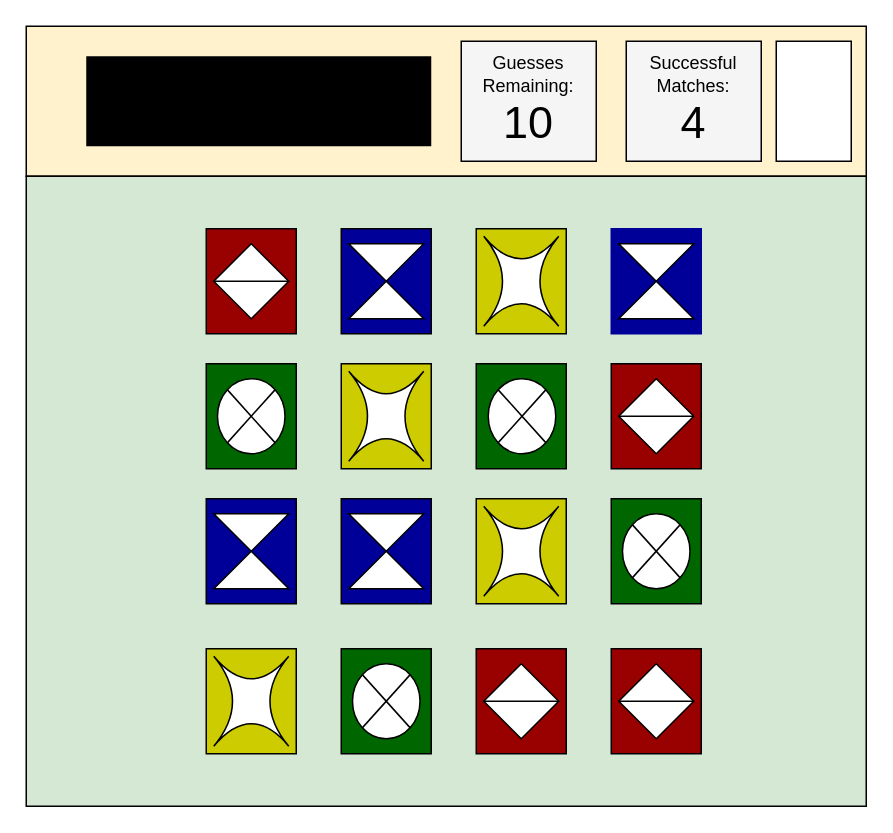
This 893x833 diagram has some shape labels left out. The shapes that lost their labels are listed below. From the top down, each one's centre as x and y in pixels, then its label:
the point at 258,101: TITLE CARD
the point at 813,100: New Game
